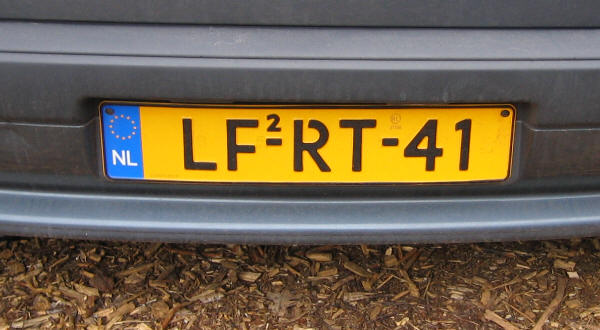license_plate: (99, 100, 515, 183)
